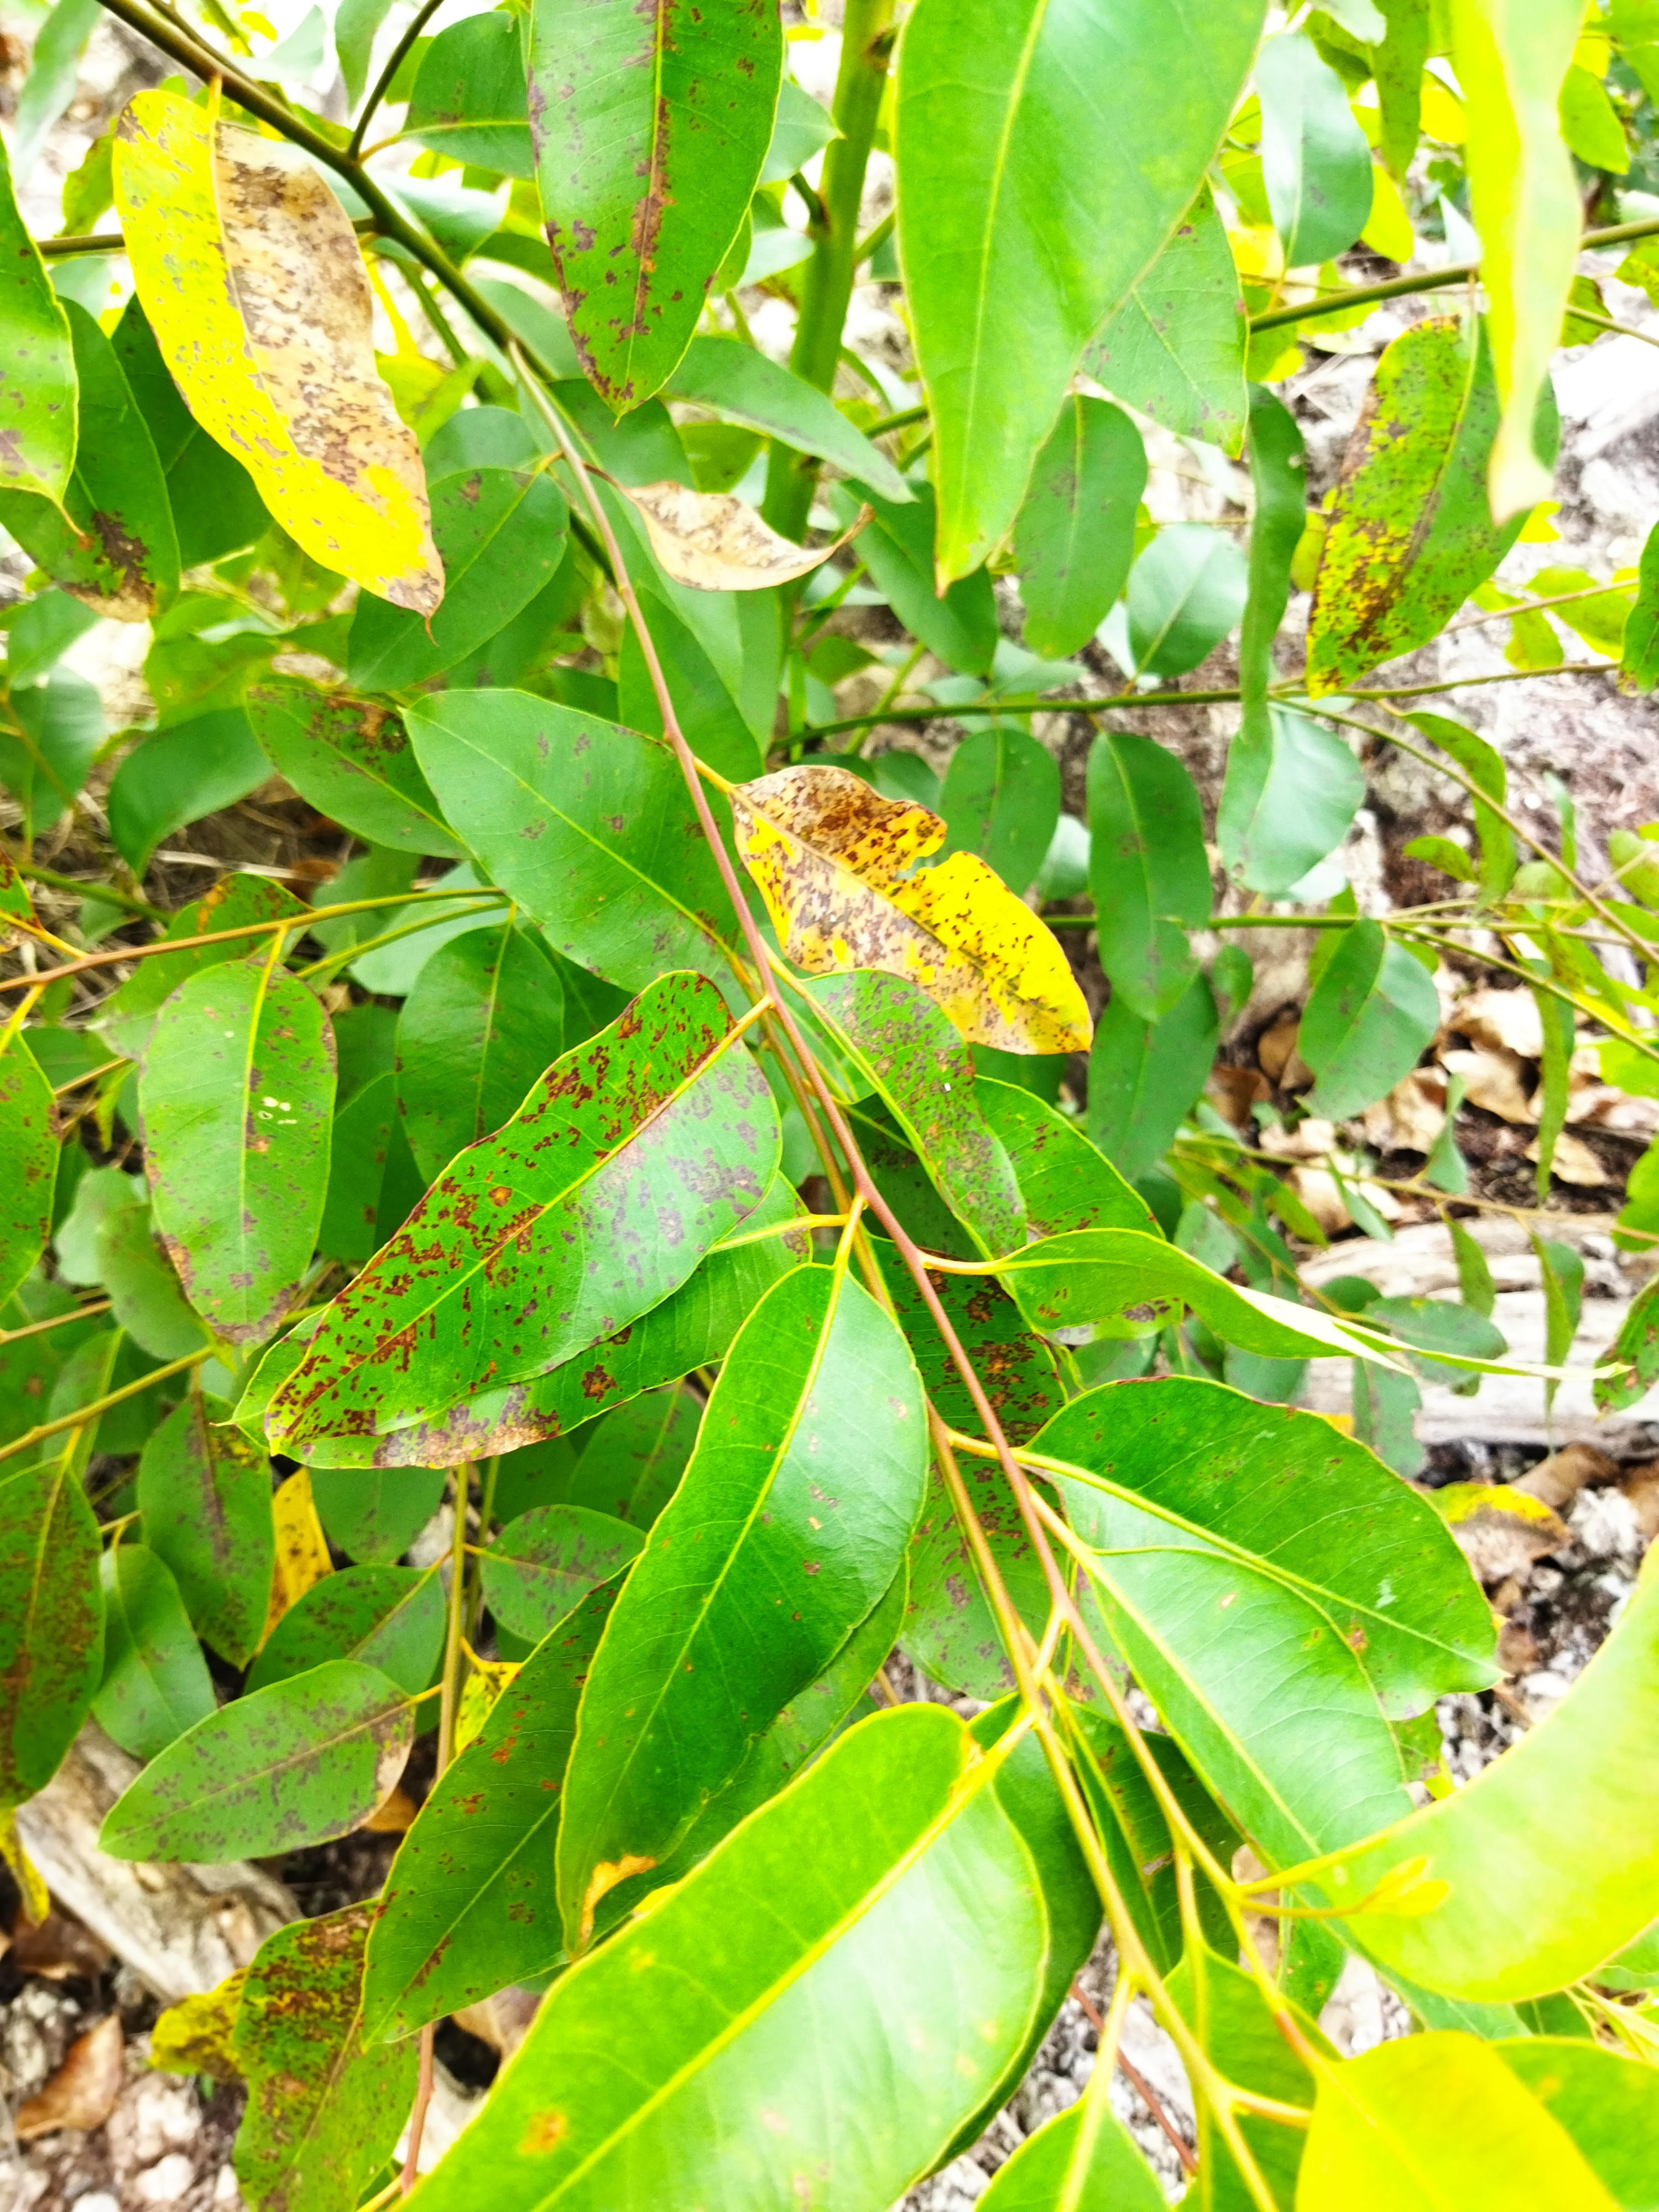Xanthomonas: (249, 986, 807, 1474), (106, 78, 430, 561), (714, 732, 1138, 1066), (511, 0, 749, 388), (880, 1235, 1112, 1602), (223, 1914, 427, 2212), (1333, 300, 1460, 730), (0, 1395, 117, 1832)
